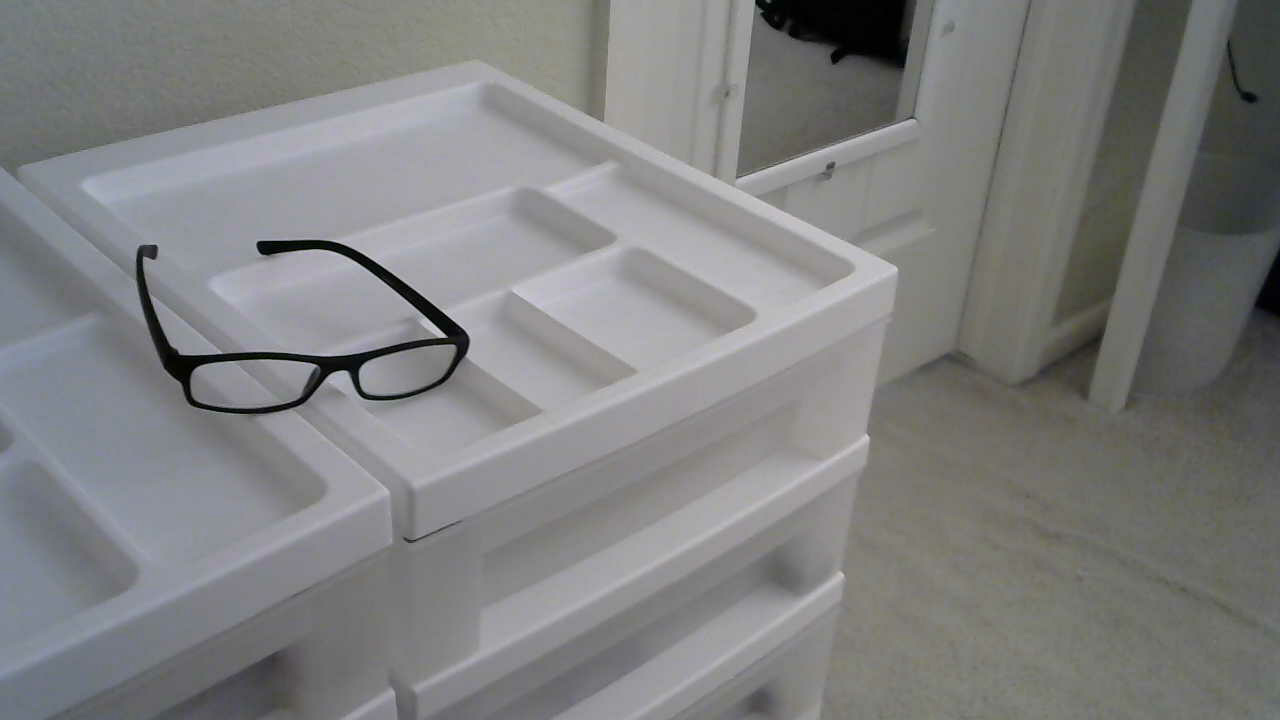Glasses: (106, 223, 480, 413)
